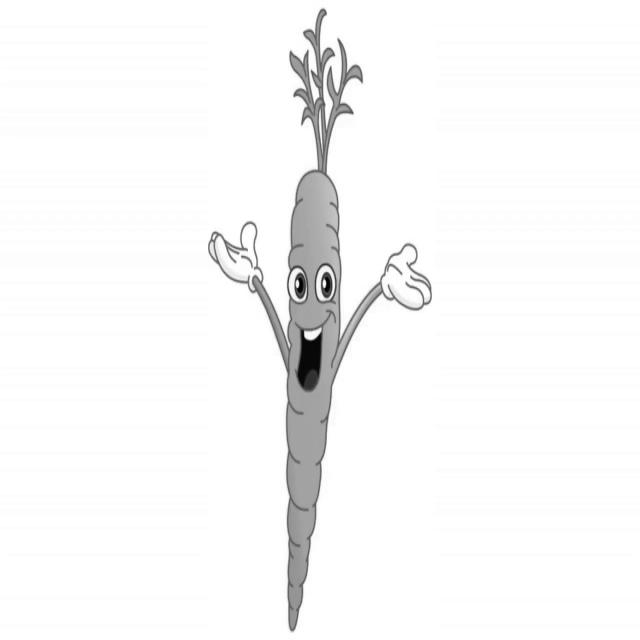Fresh_Carrot: (280, 180, 343, 603)
